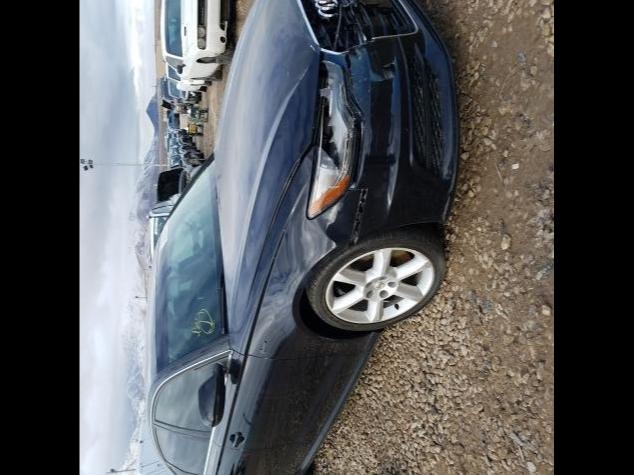Broken part: (308, 60, 356, 216), (300, 0, 416, 50), (342, 50, 367, 190), (346, 190, 366, 244)
Dent: (348, 44, 369, 114), (366, 38, 396, 82)
Paint chip: (394, 302, 398, 308)
